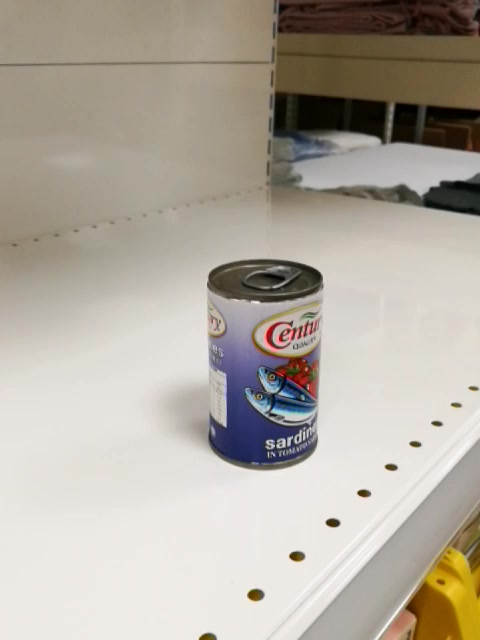sardine: (206, 258, 323, 470)
